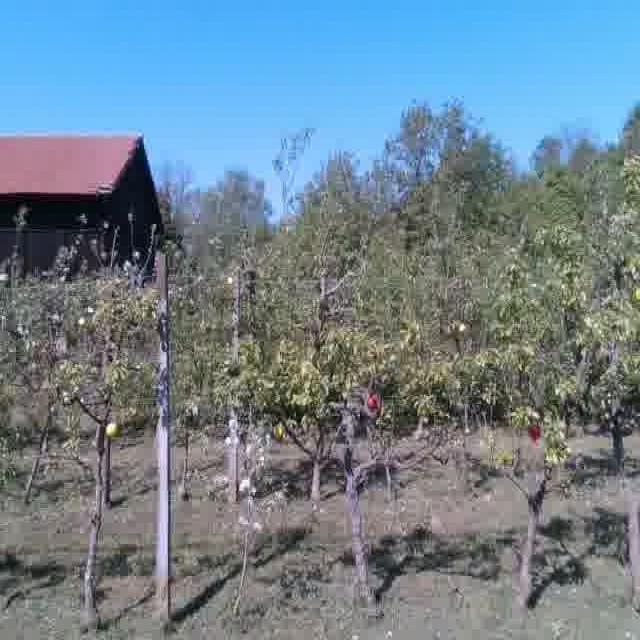red: (524, 420, 542, 442), (366, 389, 380, 410)
yellow: (104, 419, 118, 436)
